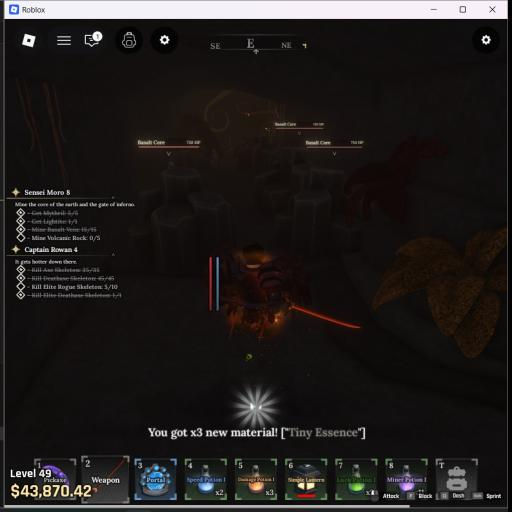player: (218, 243, 310, 327)
rock: (130, 167, 234, 273), (254, 147, 318, 218), (292, 168, 342, 256)
